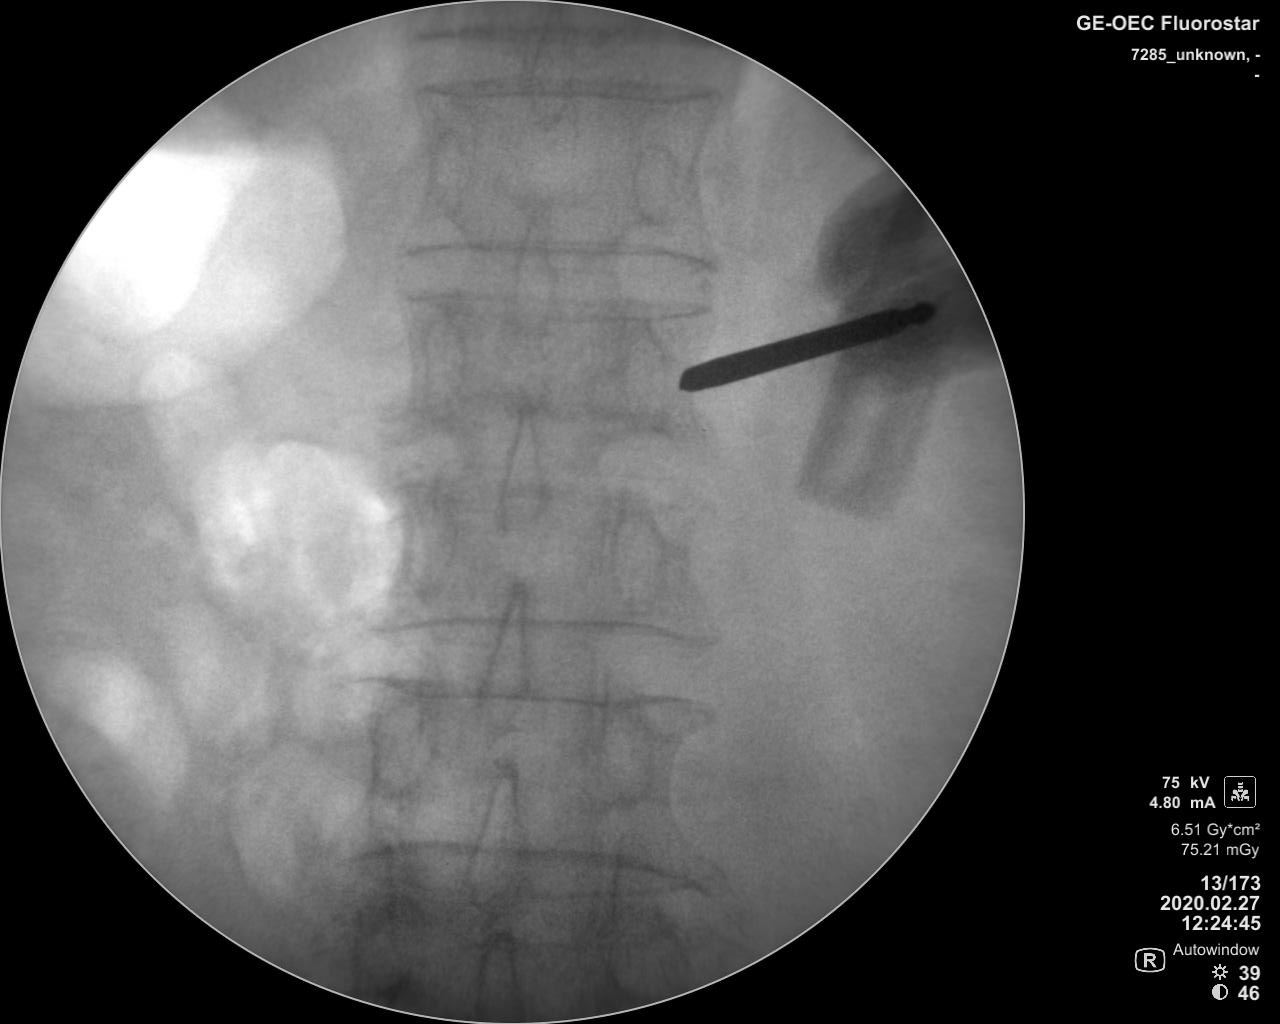eyes: (394, 306, 464, 420), (582, 706, 664, 804), (360, 694, 433, 798), (393, 489, 455, 602), (613, 502, 668, 609), (618, 331, 671, 432), (420, 121, 476, 210), (631, 140, 686, 228)
line: (339, 841, 716, 893), (352, 669, 722, 718), (362, 615, 726, 656), (392, 284, 711, 324), (392, 232, 719, 271), (412, 74, 727, 106), (405, 27, 737, 50)
nose: (461, 759, 531, 920), (474, 571, 533, 736), (493, 383, 551, 539), (509, 206, 559, 349), (525, 5, 578, 135)
